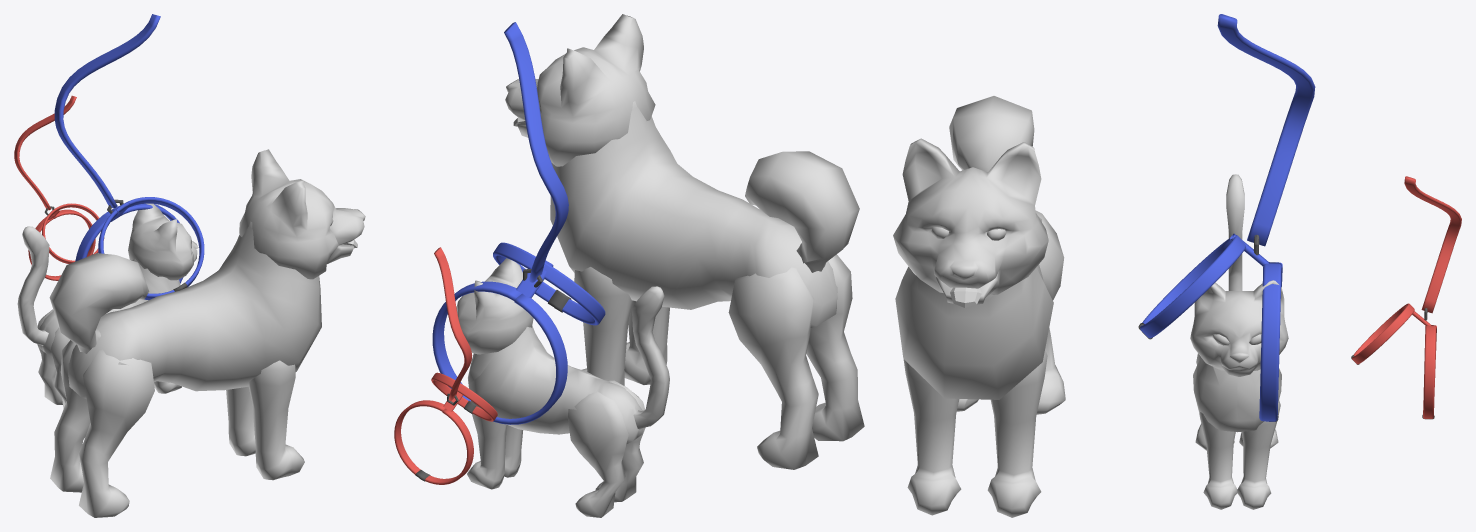
The model's file is arnes.glb.
The picture shows the model from 3 angles, left to right: view 1: azimuth 30°, elevation 25°; view 2: azimuth 150°, elevation 25°; view 3: azimuth 270°, elevation 25°; orthographic projection. The views are drawn at different scales.
Visible parts, largest first — view 1: Pata_trasera_2.001, Cube.006, correa.001, Cube.002, Cuerpo.006, arnes.006, correa, Pata_trasera_2.002, Pata_trasera_2.006, arnes.001, arnes.007; view 2: Pata_trasera_2.001, Cuerpo.006, Pata_trasera_2.002, Cube.006, correa.001, Cube.002, Pata_delantera.003, arnes.001, arnes.007, arnes.008, correa, Pata_trasera_2.006 (+5 smaller); view 3: Pata_trasera_2.001, Cube.006, correa.001, Cuerpo.006, arnes.008, Pata_delantera.003, Pata_delantera_2.001, arnes.006, correa, Cube.002, arnes.002, arnes.007 (+1 smaller).
Boxes of the visible parts, x1,y1,x2,y2 form: Pata_trasera_2.001: (49,149,365,517); Cube.006: (128,203,198,280); correa.001: (54,14,160,208); Cube.002: (17,226,49,345); Cuerpo.006: (38,259,180,356); arnes.006: (123,197,204,289); correa: (14,95,76,210); Pata_trasera_2.002: (37,309,62,404); Pata_trasera_2.006: (51,327,69,408); arnes.001: (75,211,111,261); arnes.007: (98,204,181,300); Pata_trasera_2.001: (505,14,864,469); Cuerpo.006: (468,326,642,444); Pata_trasera_2.002: (568,391,628,517); Cube.006: (450,258,533,354); correa.001: (504,22,568,282); Cube.002: (631,286,669,429); Pata_delantera.003: (467,400,507,489); arnes.001: (493,293,567,424); arnes.007: (543,262,605,325); arnes.008: (432,281,521,401); correa: (434,247,472,400); Pata_trasera_2.006: (595,380,645,502); Pata_trasera_2.001: (893,96,1065,517); Cube.006: (1190,280,1288,376); correa.001: (1217,14,1315,246); Cuerpo.006: (1193,357,1281,432); arnes.008: (1259,262,1281,421); Pata_delantera.003: (1237,400,1280,509); Pata_delantera_2.001: (1199,412,1237,509); arnes.006: (1138,235,1245,339); correa: (1404,176,1461,313); Cube.002: (1226,174,1244,290); arnes.002: (1422,325,1436,419); arnes.007: (1140,235,1237,332).
Bounding box in the file's own units: 1.1 × 1.36 × 1.44.
